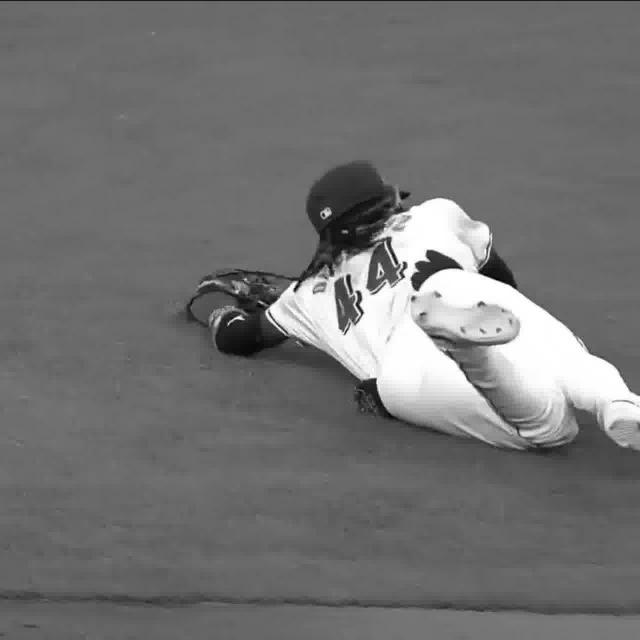baseball_glove: (184, 273, 288, 328)
shoe: (403, 285, 519, 352), (585, 392, 640, 452)
